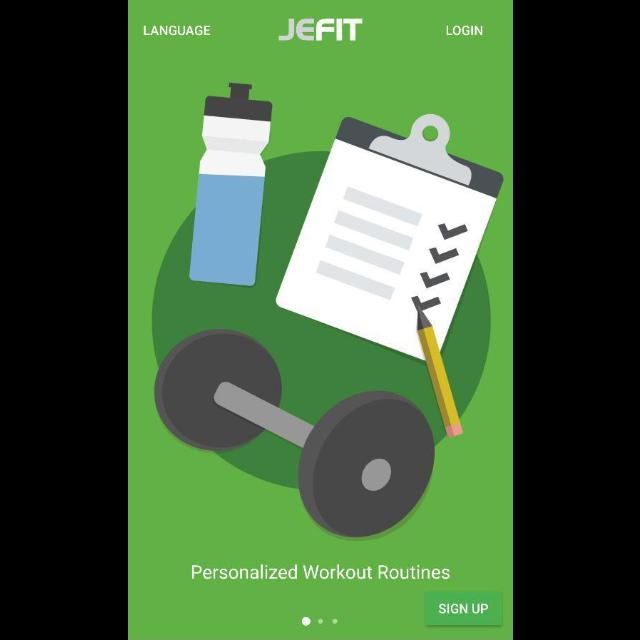image: (151, 83, 503, 539), (278, 18, 362, 42)
pageindicator: (300, 616, 338, 626)
text: (191, 564, 449, 580), (144, 26, 210, 36), (446, 26, 482, 36)
textbutton: (424, 592, 502, 626)
